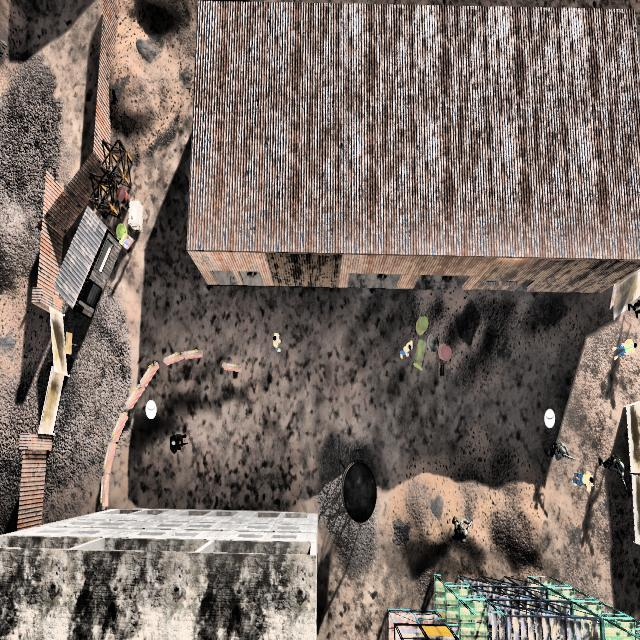bad: (444, 502, 475, 554), (597, 440, 628, 488), (543, 433, 573, 471), (168, 425, 188, 460)
good: (609, 326, 637, 374), (266, 323, 286, 360), (573, 466, 595, 496), (395, 334, 412, 368)
